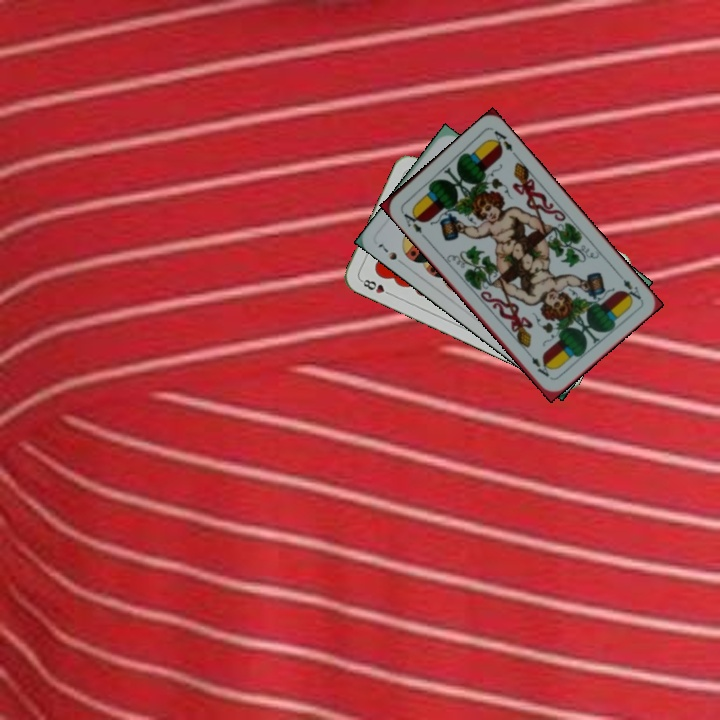EA: (613, 269, 644, 303), (397, 206, 425, 236)
H8: (357, 275, 395, 298)
S7: (373, 239, 407, 268)
